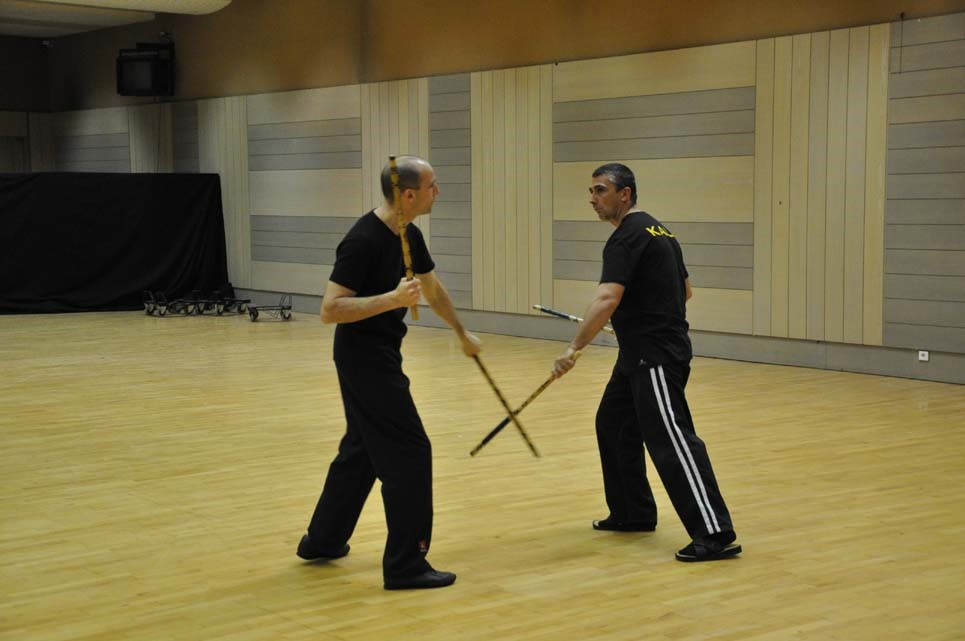baston_e: (474, 351, 576, 455), (469, 357, 540, 452), (386, 160, 418, 317), (535, 303, 614, 335)
baston_v: (385, 149, 400, 166), (407, 313, 425, 327), (467, 448, 477, 457), (574, 348, 583, 357), (532, 452, 541, 461), (530, 301, 537, 310)
